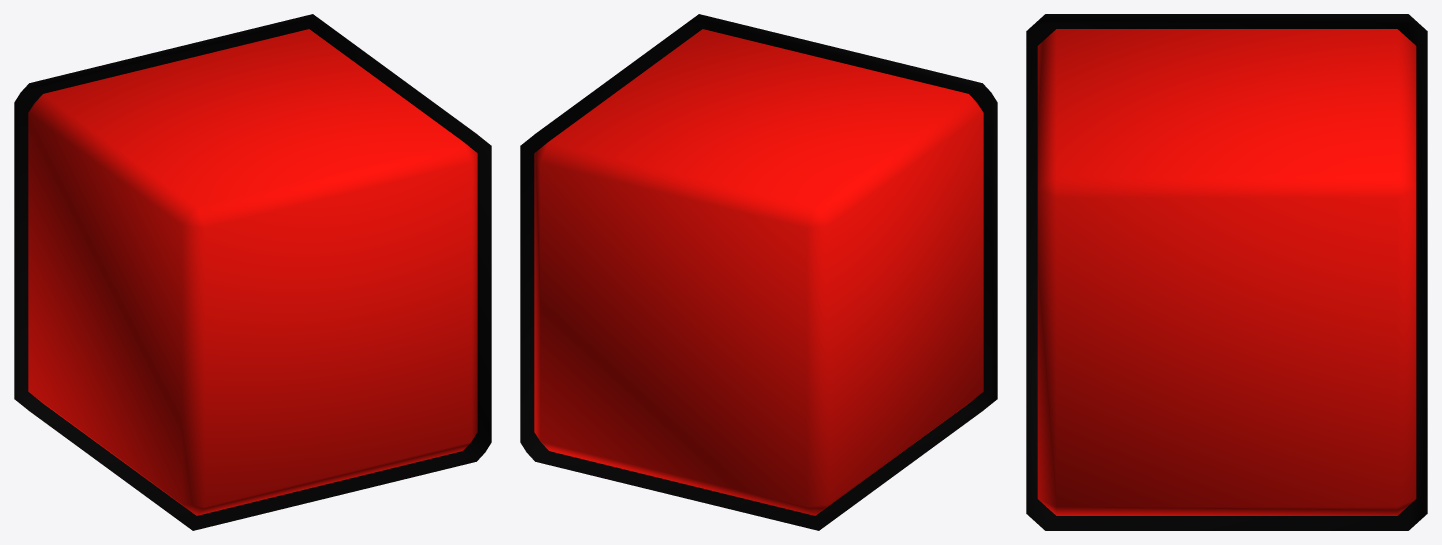
File: supply_box.fbx
The picture shows the model from 3 angles, left to right: view 1: azimuth 30°, elevation 25°; view 2: azimuth 150°, elevation 25°; view 3: azimuth 270°, elevation 25°; orthographic projection. The views are drawn at different scales.
Parts seen in each view (by area): view 1: supply_outline; view 2: supply_outline; view 3: supply_outline.
Boxes of the visible parts, bbox=[...] form: supply_outline: bbox=[14, 14, 491, 530]; supply_outline: bbox=[520, 14, 997, 530]; supply_outline: bbox=[1026, 14, 1427, 530].
Size of the model in its own units: 212 by 212 by 212.
